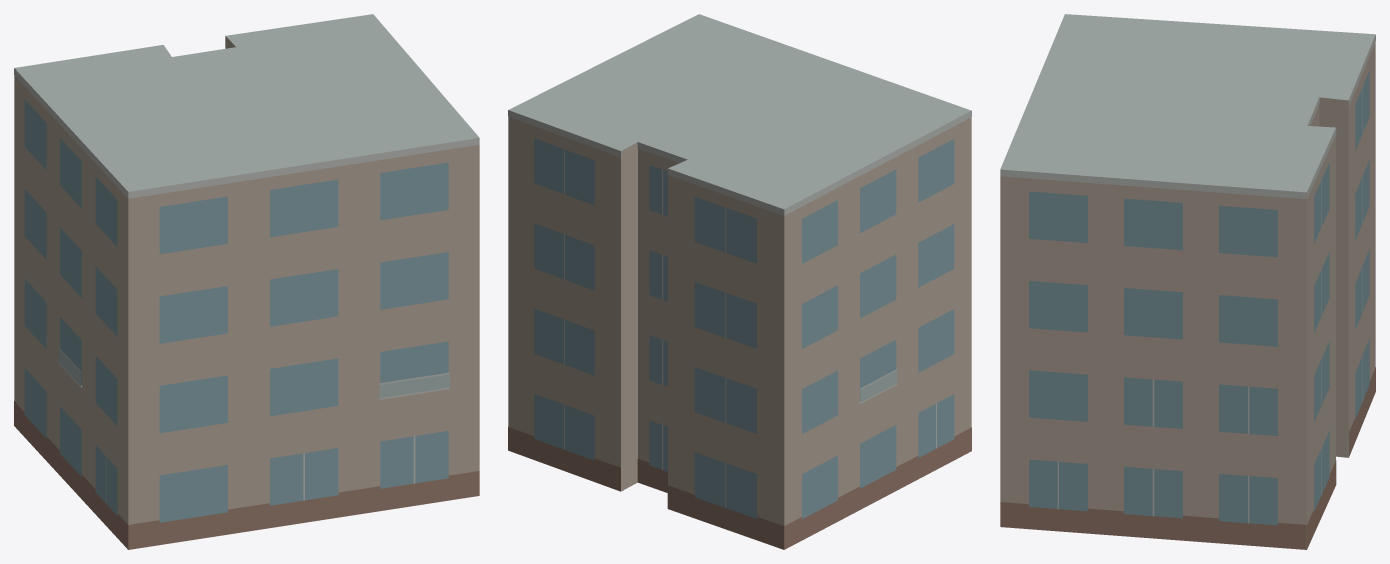
File: survey-upis-32721428.glb
3 views of the same model, side by side, from view 1: azimuth 30°, elevation 25°; view 2: azimuth 150°, elevation 25°; view 3: azimuth 270°, elevation 25° (orthographic). The views are drawn at different scales.
Parts seen in each view (by area): view 1: survey-upis-32721428.tmp; view 2: survey-upis-32721428.tmp; view 3: survey-upis-32721428.tmp.
Boxes of the visible parts, x1,y1,x2,y2 form: survey-upis-32721428.tmp: (14, 14, 479, 549); survey-upis-32721428.tmp: (508, 14, 971, 549); survey-upis-32721428.tmp: (1000, 14, 1375, 549).
Size of the model in its own units: 13.71 by 12.8 by 12.2.
